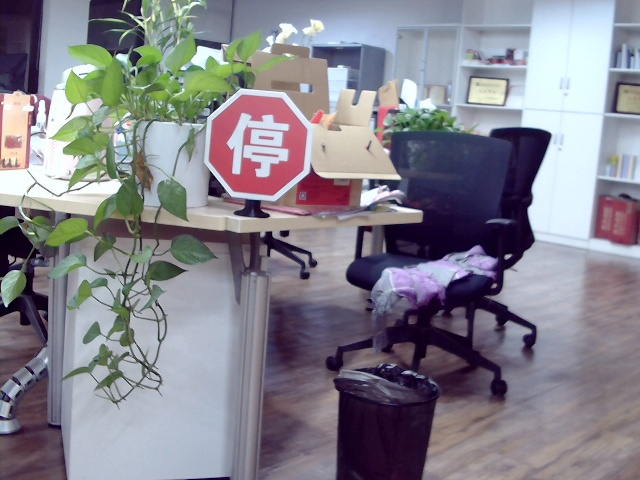stop: (226, 110, 292, 178)
